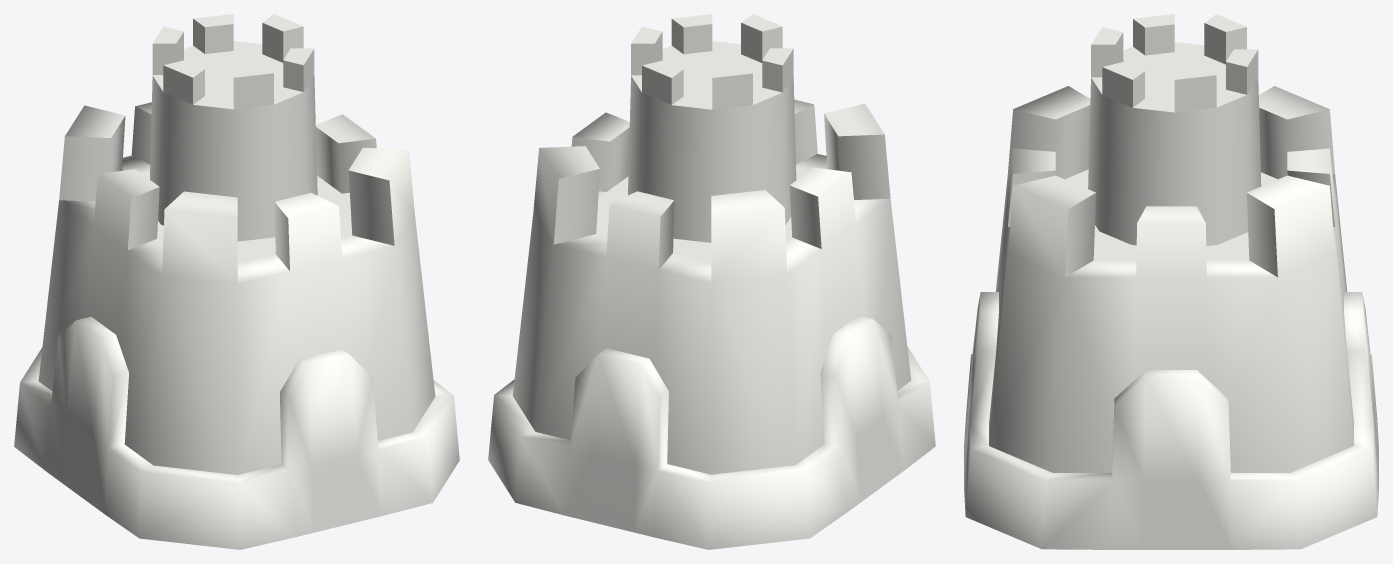
Rendered from Sand_Castle.obj.
3 renders of one model, left to right at view 1: azimuth 30°, elevation 25°; view 2: azimuth 150°, elevation 25°; view 3: azimuth 270°, elevation 25°, orthographic. The views are drawn at different scales.
Visible parts, largest first — view 1: Sand_Castle; view 2: Sand_Castle; view 3: Sand_Castle.
Boxes of the visible parts, x1,y1,x2,y2 form: Sand_Castle: [14, 14, 459, 549]; Sand_Castle: [488, 14, 935, 549]; Sand_Castle: [964, 14, 1378, 549].
Bounding box in the file's own units: 0.4064 × 0.4923 × 0.4375.
